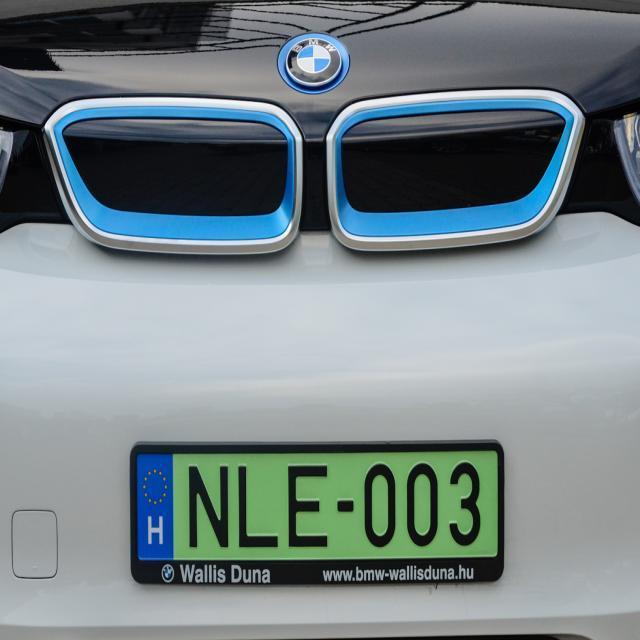licence: (131, 441, 506, 586)
